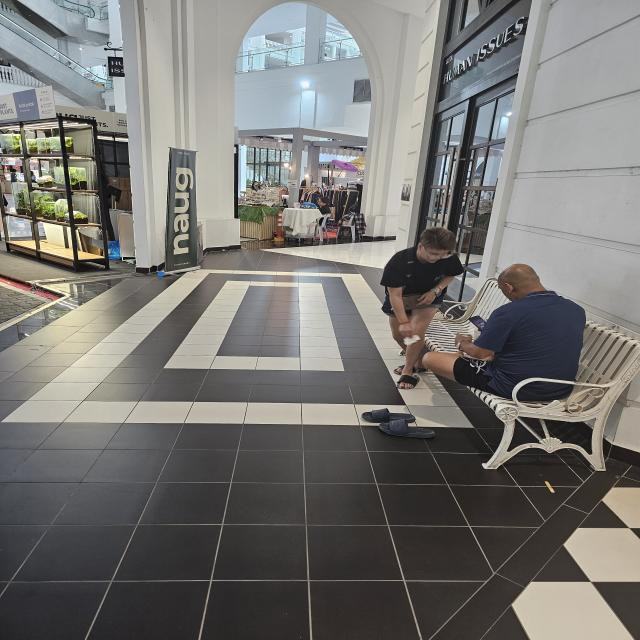footpath: (2, 267, 354, 638)
obstacle: (465, 318, 638, 472), (0, 113, 112, 272)
person: (419, 263, 586, 402), (380, 227, 464, 389)
